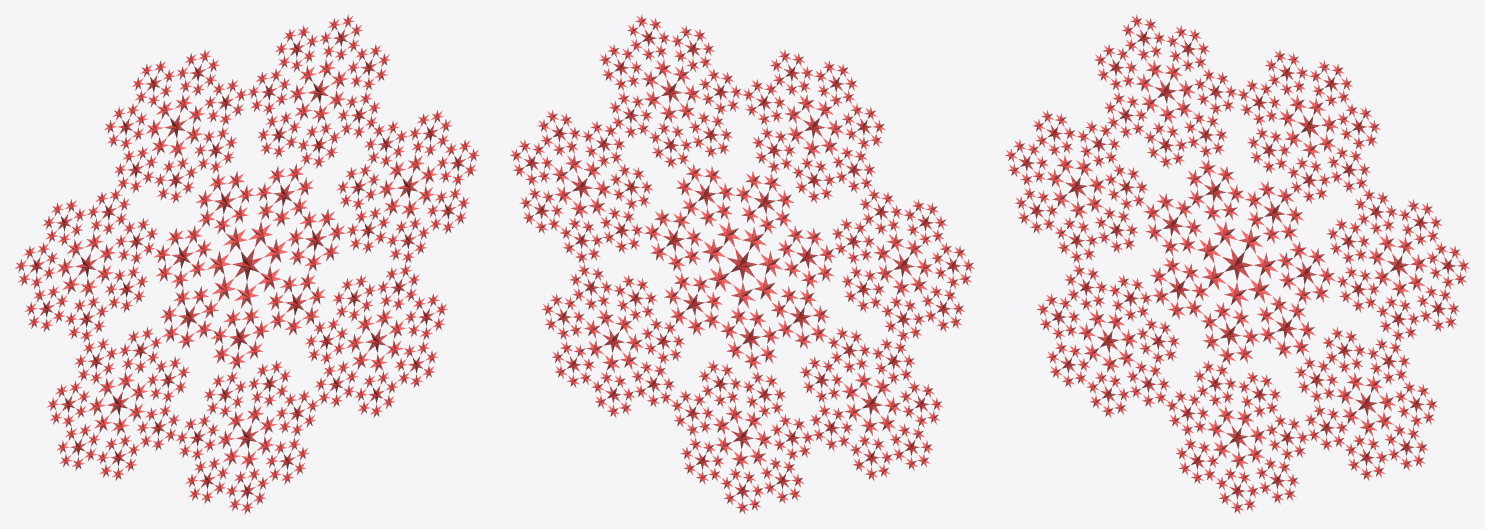
The model's file is fractalheptagrammicdipyramid3.glb.
3 renders of one model, left to right at view 1: azimuth 30°, elevation 25°; view 2: azimuth 150°, elevation 25°; view 3: azimuth 330°, elevation 25°, orthographic.
Size of the model in its own units: 12.61 by 12.29 by 0.3255.
